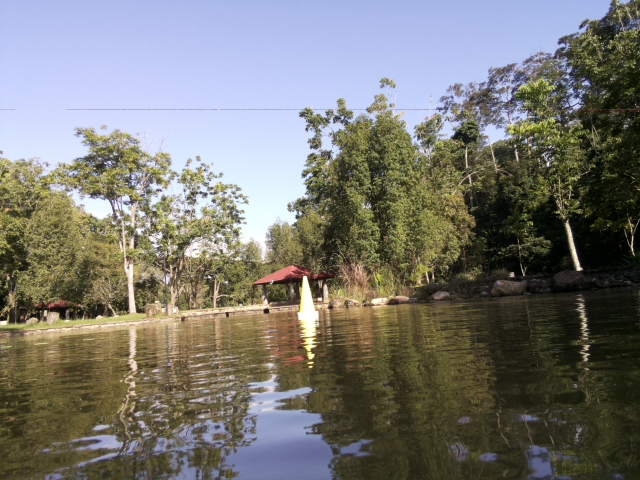checkpoint: (297, 276, 319, 319)
